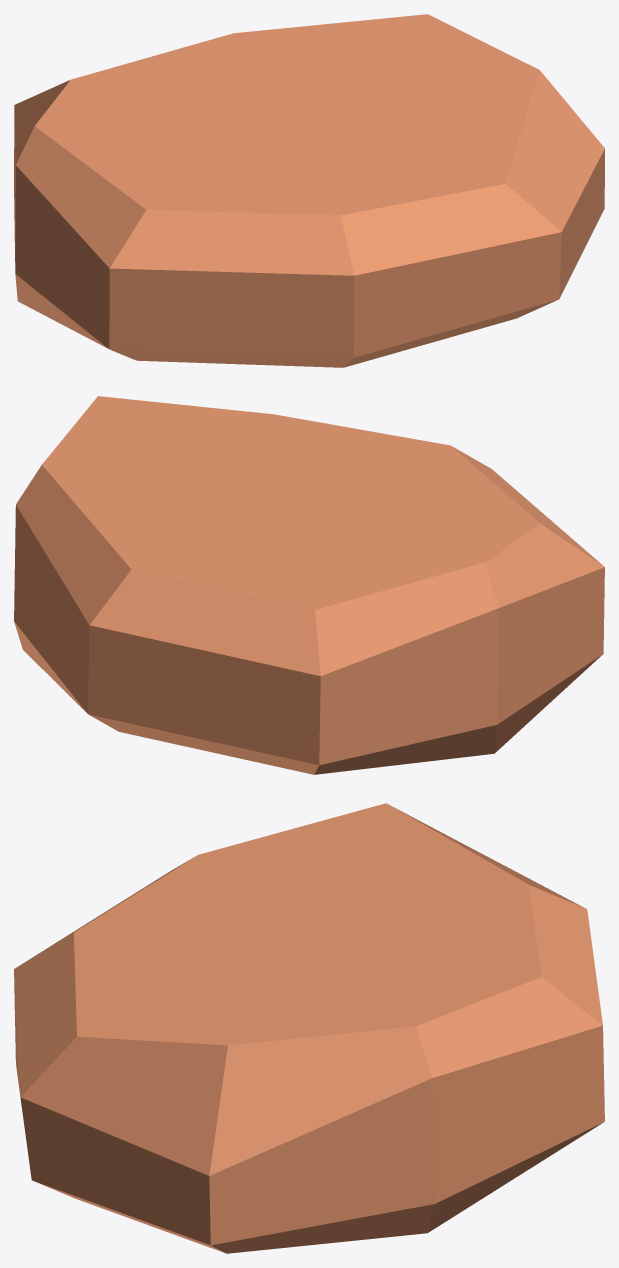
File: Stone002.fbx
The picture shows the model from 3 angles, top to bottom: view 1: azimuth 30°, elevation 25°; view 2: azimuth 150°, elevation 25°; view 3: azimuth 270°, elevation 25°; orthographic projection. The views are drawn at different scales.
Visible parts, largest first — view 1: Stone002; view 2: Stone002; view 3: Stone002.
Part boxes in pixels (x1,y1,x2,y2): Stone002: (14, 14, 604, 367); Stone002: (14, 396, 604, 774); Stone002: (14, 803, 604, 1253).
Bounding box in the file's own units: 1.25 × 0.423 × 1.09.
